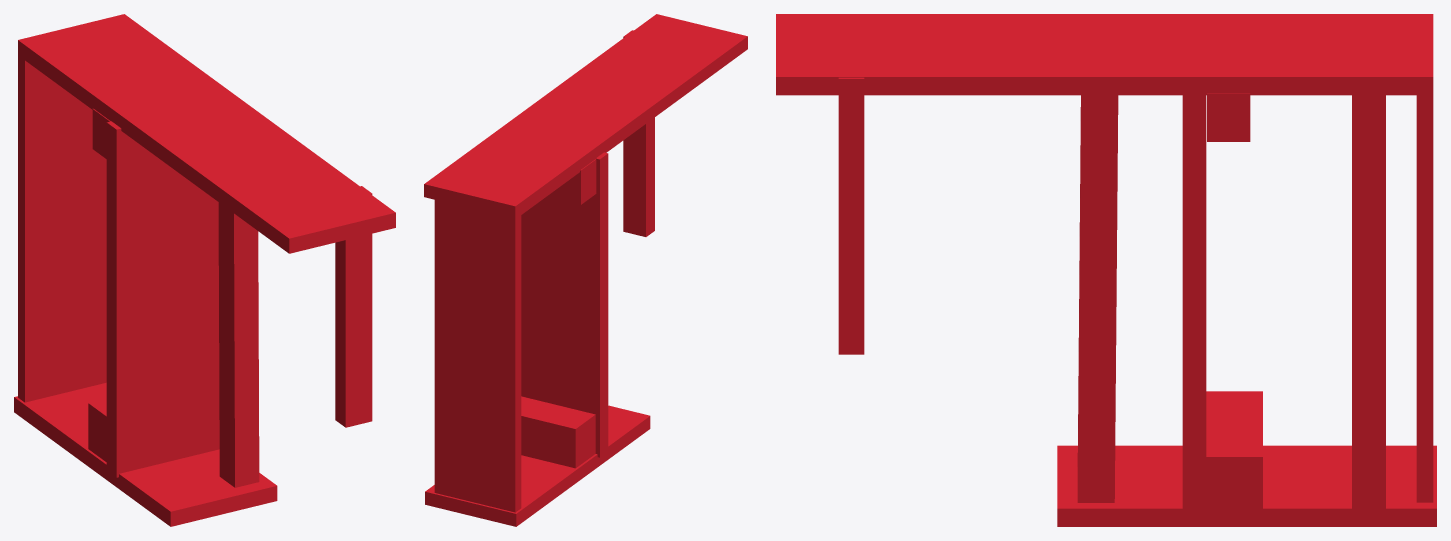
File: tinker.obj
The picture shows the model from 3 angles, left to right: view 1: azimuth 30°, elevation 25°; view 2: azimuth 150°, elevation 25°; view 3: azimuth 270°, elevation 25°; orthographic projection. The views are drawn at different scales.
Parts seen in each view (by area): view 1: obj_0; view 2: obj_0; view 3: obj_0.
Boxes of the visible parts, box(x1,y1,x2,y2) form: obj_0: box(14, 14, 395, 526); obj_0: box(424, 14, 747, 526); obj_0: box(776, 14, 1436, 526).
Size of the model in its own units: 47.87 by 147 by 195.
